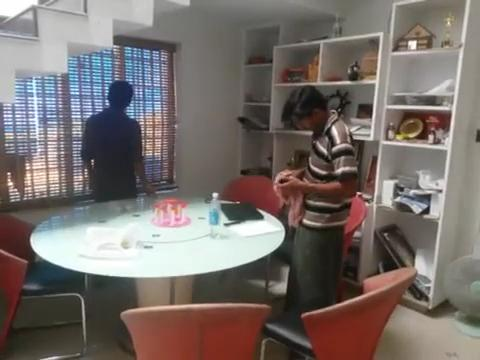chair: (259, 267, 416, 360), (1, 212, 88, 359), (264, 196, 366, 300), (119, 302, 273, 359), (218, 175, 285, 217)
closet_cabinet: (239, 1, 479, 316)
cup_glass_bottle: (150, 196, 191, 227)
floor: (1, 252, 479, 359), (1, 1, 191, 105)
paper_notebook: (220, 203, 280, 237)
person: (274, 84, 359, 314), (80, 80, 156, 202)
table_desk: (29, 191, 286, 356)
window: (1, 42, 172, 205)
